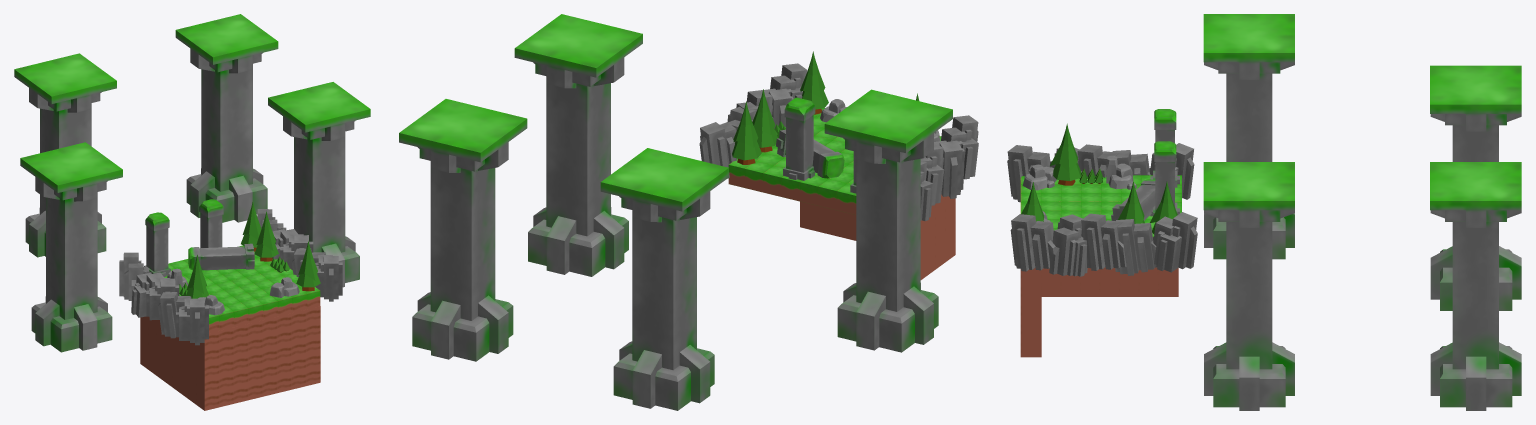
The picture shows the model from 3 angles, left to right: view 1: azimuth 30°, elevation 25°; view 2: azimuth 150°, elevation 25°; view 3: azimuth 270°, elevation 25°; orthographic projection. The views are drawn at different scales.
Visible parts, largest first — view 1: Cube.060; view 2: Cube.060; view 3: Cube.060.
Boxes of the visible parts, left/top/right/bottom form: Cube.060: left=14, top=14, right=370, bottom=410; Cube.060: left=399, top=14, right=978, bottom=410; Cube.060: left=1007, top=14, right=1521, bottom=410.
Size of the model in its own units: 4236 by 2438 by 4924.
